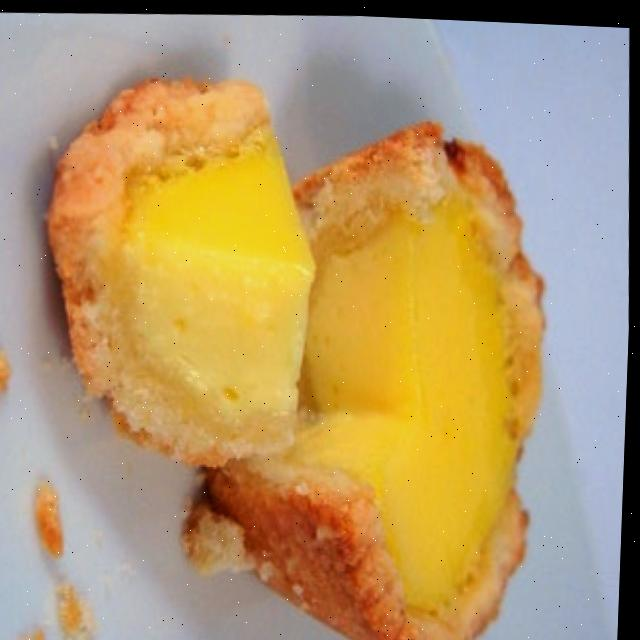炸货点心: (0, 39, 609, 640)
蛋糕甜品: (0, 39, 609, 640)
